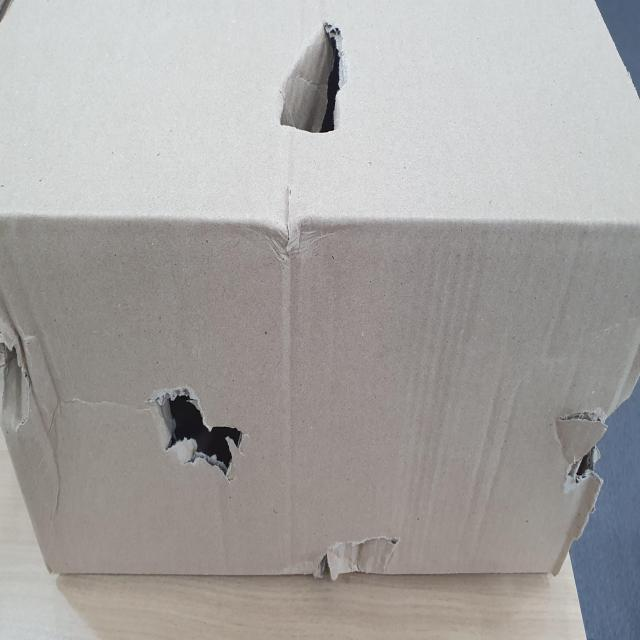damaged: (143, 380, 243, 501), (273, 21, 358, 142), (556, 402, 610, 488), (314, 529, 399, 581)
